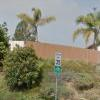Palm tree: (21, 6, 54, 43)
